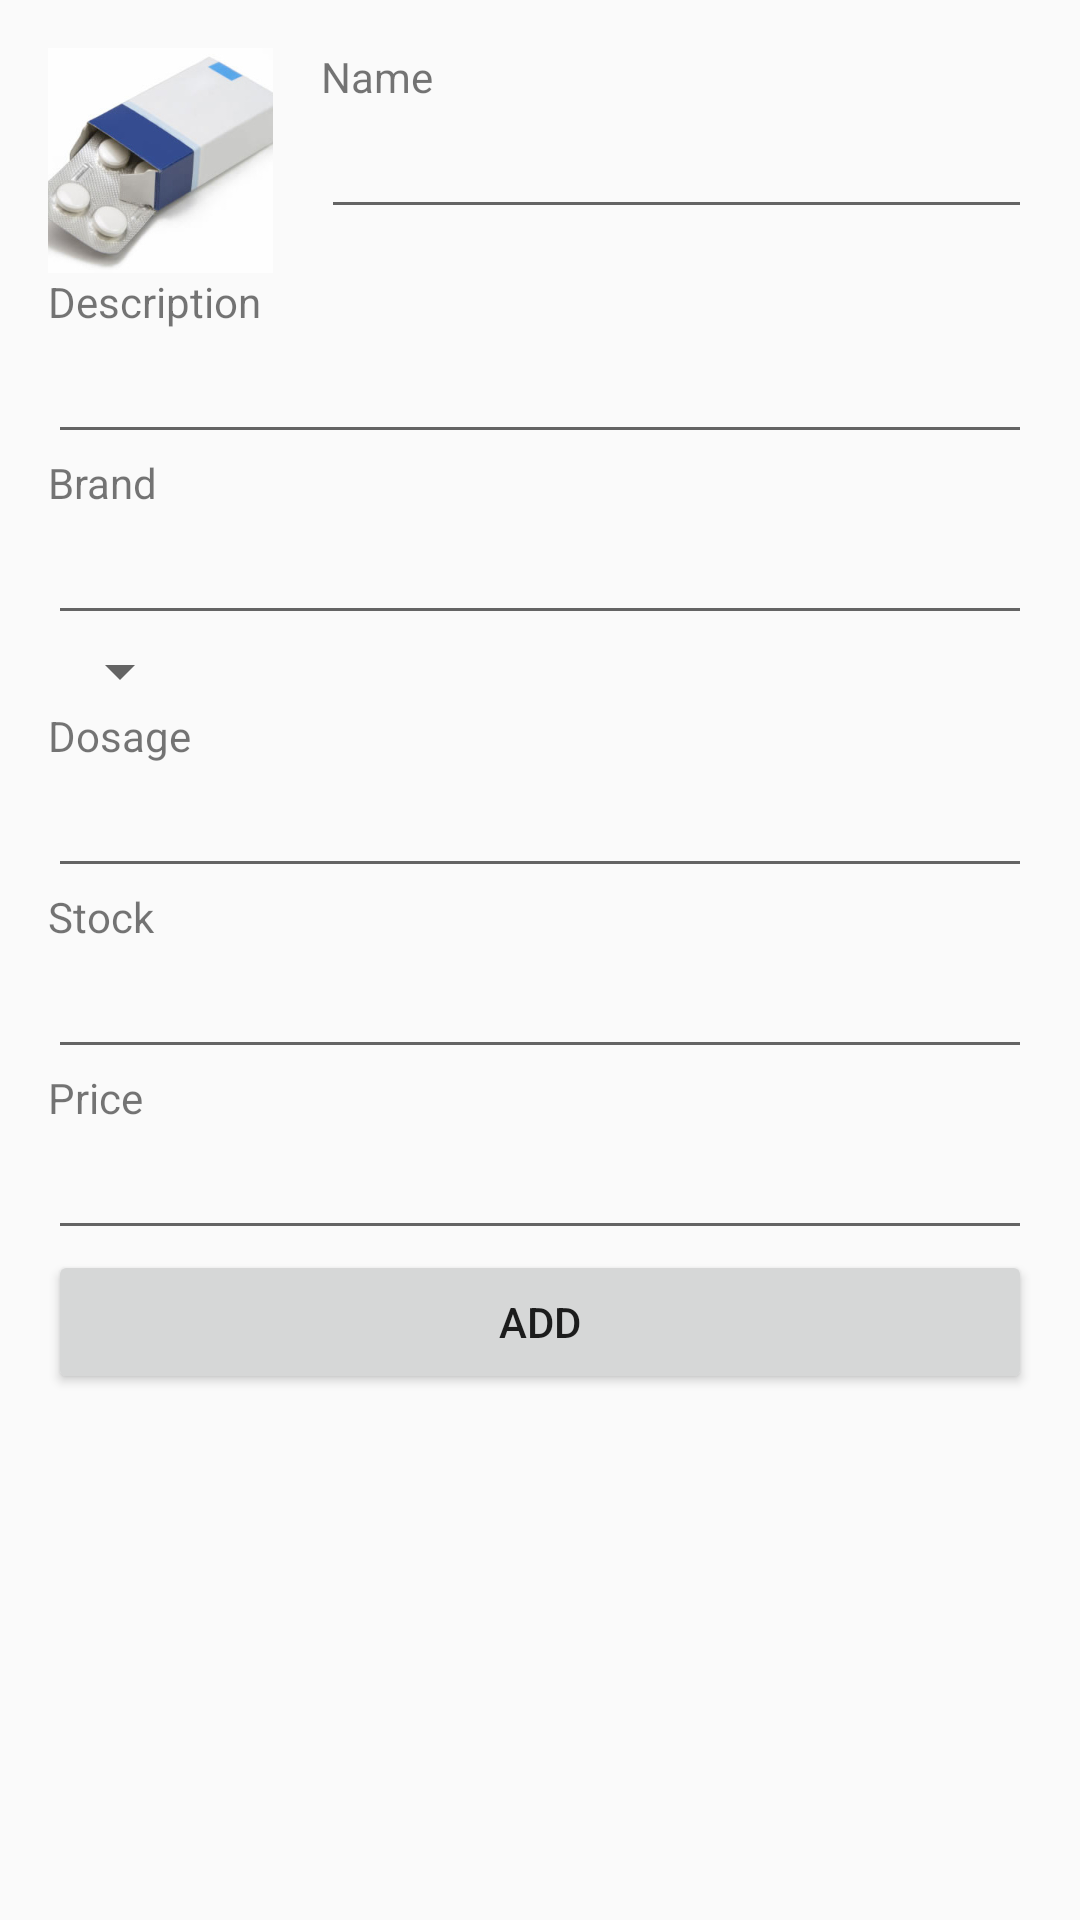

Named icons in this screenshot (1080px×1920px) and their centers, [x,y]:
caja medicamentos: [160,164]
